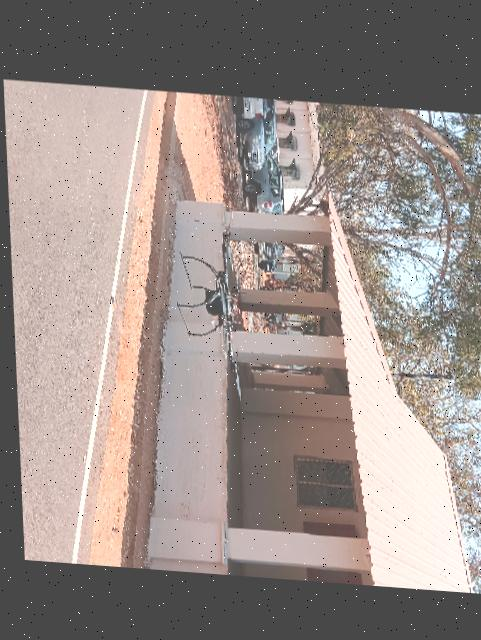drone: (163, 209, 257, 402)
